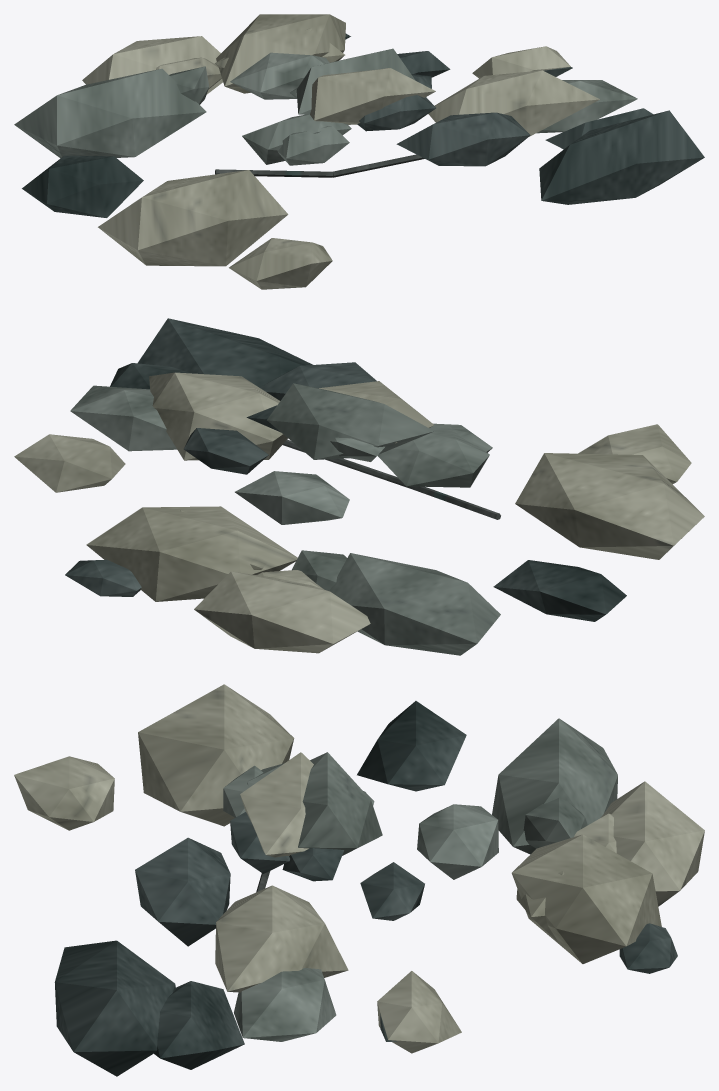
Rendered from 0114_scree_pile_14.glb.
The picture shows the model from 3 angles, top to bottom: view 1: azimuth 30°, elevation 25°; view 2: azimuth 150°, elevation 25°; view 3: azimuth 270°, elevation 25°; orthographic projection. The views are drawn at different scales.
Visible parts, largest first — view 1: stone_light, stone_dark, stone, iron; view 2: stone_light, stone, stone_dark, iron; view 3: stone_light, stone_dark, stone.
Part boxes in pixels (bbox=[...]): stone_light: bbox=[82, 14, 599, 289]; stone_dark: bbox=[22, 33, 704, 217]; stone: bbox=[14, 48, 637, 165]; iron: bbox=[215, 154, 424, 177]; stone_light: bbox=[14, 372, 704, 653]; stone: bbox=[70, 383, 500, 655]; stone_dark: bbox=[65, 318, 626, 621]; iron: bbox=[282, 439, 500, 519]; stone_light: bbox=[14, 684, 704, 1053]; stone_dark: bbox=[54, 701, 677, 1076]; stone: bbox=[223, 718, 617, 1041].
Bounding box in the file's own units: 3.12 × 0.6666 × 2.65.
4 materials, 4 textured.
